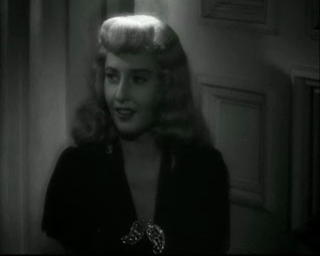face: (103, 52, 154, 136)
mcu: (1, 1, 320, 256)
person: (41, 13, 234, 256)
